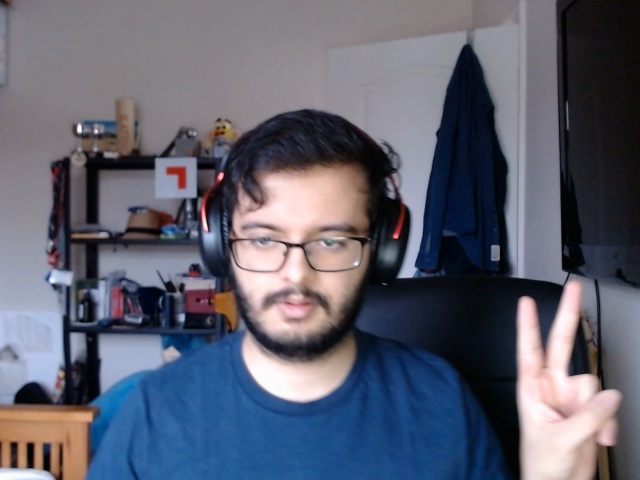Peace: (500, 267, 628, 480)
